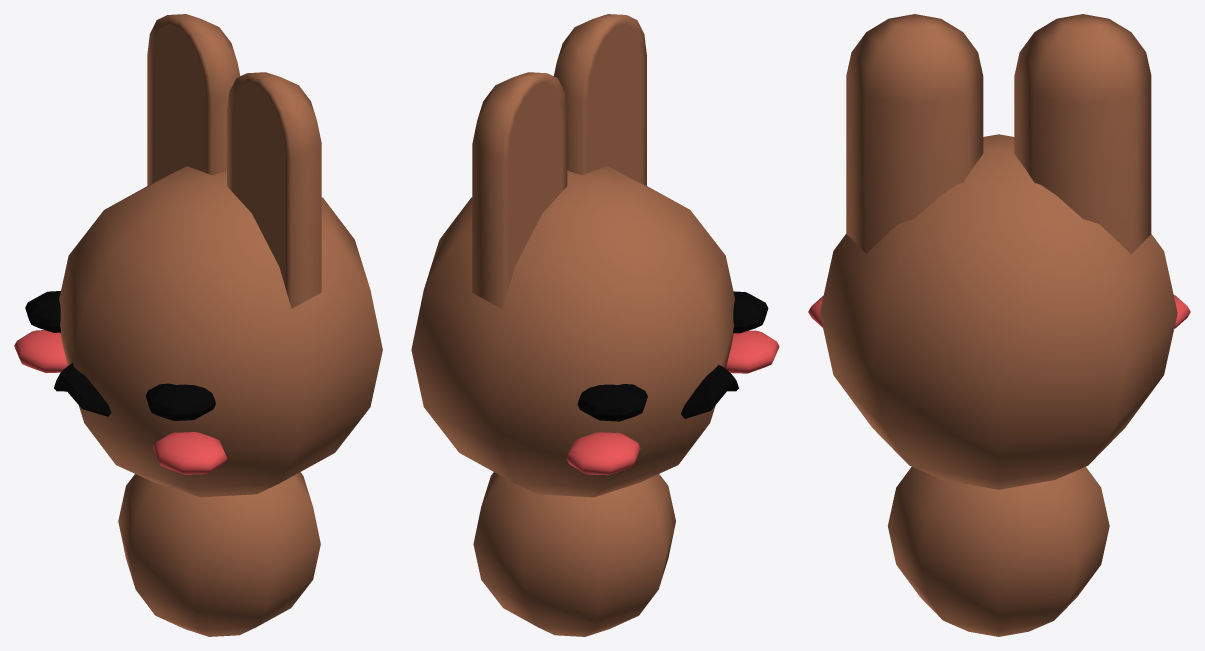
File: NeutralBun_Brown.fbx
3 views of the same model, side by side, from view 1: azimuth 30°, elevation 25°; view 2: azimuth 150°, elevation 25°; view 3: azimuth 270°, elevation 25° (orthographic). The views are drawn at different scales.
Parts seen in each view (by area): view 1: NeutralBun_Brown; view 2: NeutralBun_Brown; view 3: NeutralBun_Brown.
Boxes of the visible parts, <box> form: NeutralBun_Brown: <box>14,14,382,636</box>; NeutralBun_Brown: <box>411,14,779,636</box>; NeutralBun_Brown: <box>808,14,1190,636</box>.
Size of the model in its own units: 106 by 191 by 108.
